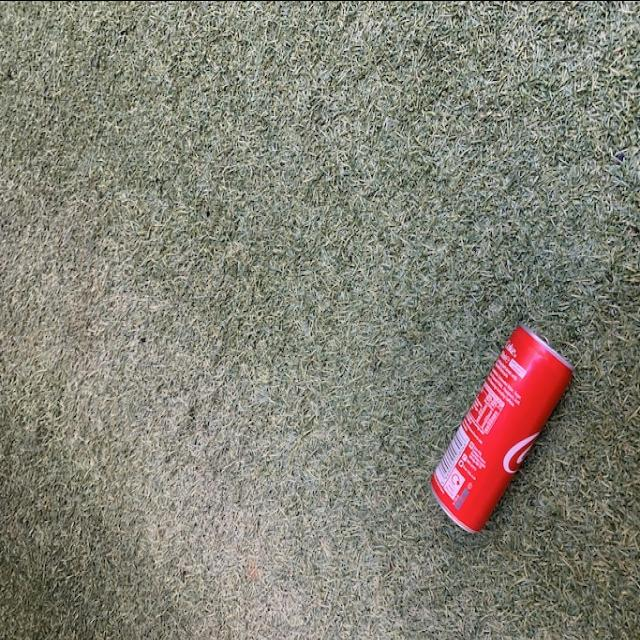litter: (432, 319, 584, 541)
